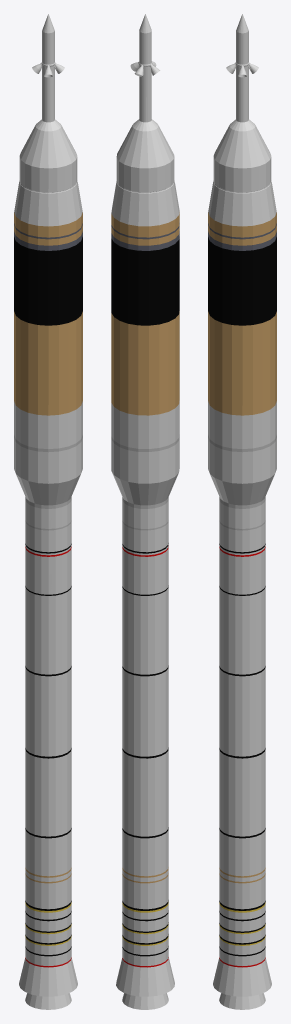
The model's file is Ares1.fbx.
3 renders of one model, left to right at view 1: azimuth 90°, elevation 25°; view 2: azimuth 150°, elevation 25°; view 3: azimuth 270°, elevation 25°, orthographic.
Parts seen in each view (by area): view 1: rocket; view 2: rocket; view 3: rocket.
Part boxes in pixels (x1=…): rocket: x1=14, y1=14, x2=82, y2=1009; rocket: x1=111, y1=14, x2=179, y2=1009; rocket: x1=208, y1=14, x2=276, y2=1009.
Bounding box in the file's own units: 60.98 × 966 × 60.99.
